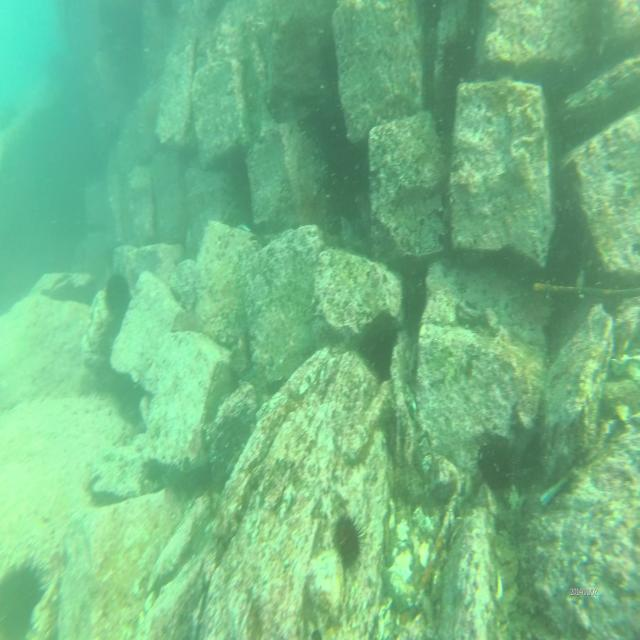echinus: (0, 553, 46, 639), (475, 436, 513, 491), (332, 512, 360, 569), (103, 270, 132, 316)
